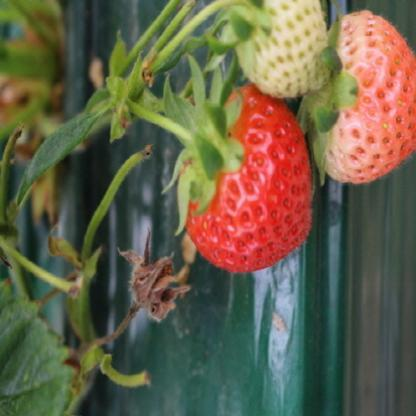Strawberry_Gray_Mold: (117, 224, 190, 322)
